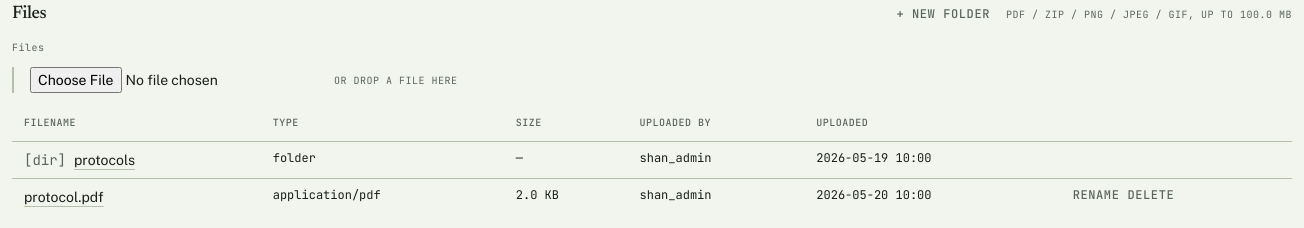
<Files /> — #175 rename › Escape cancels the rename without issuing a PATCH
This screenshot has width=1304, height=228.
Click the button "Rename" at x=1096, y=195, box [1073,187,1119,203]
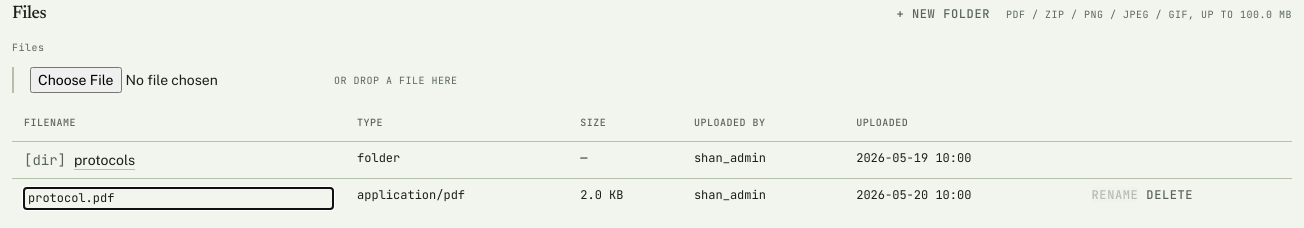
Type "zzz" into the field named "rename protocol.pdf" at x=179, y=198, box [24,188,333,209]
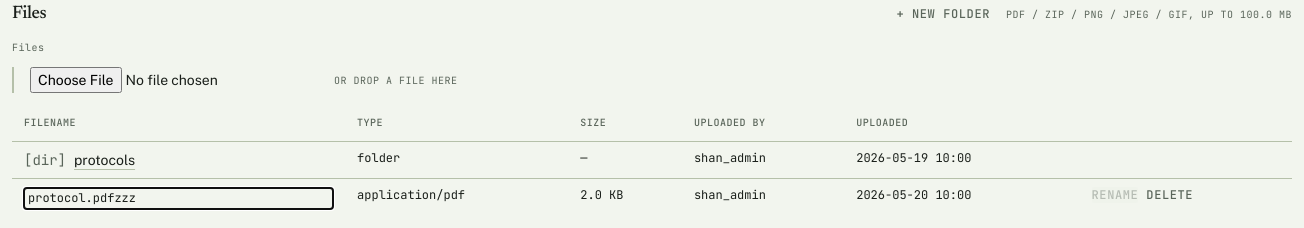
Press Escape
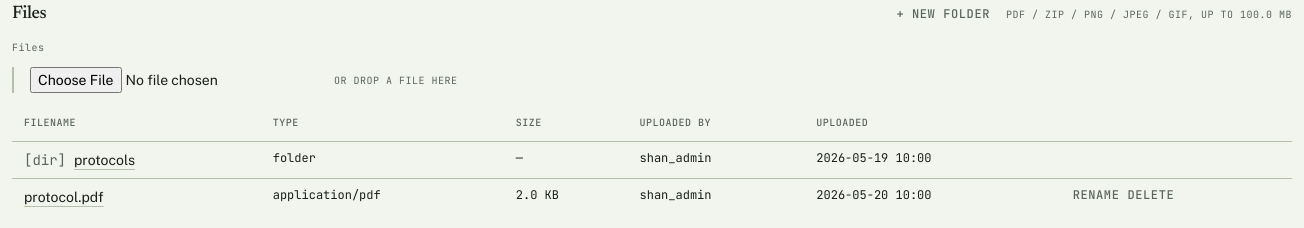
Expected: the button "protocol.pdf" is shown, [24,187,104,207]
